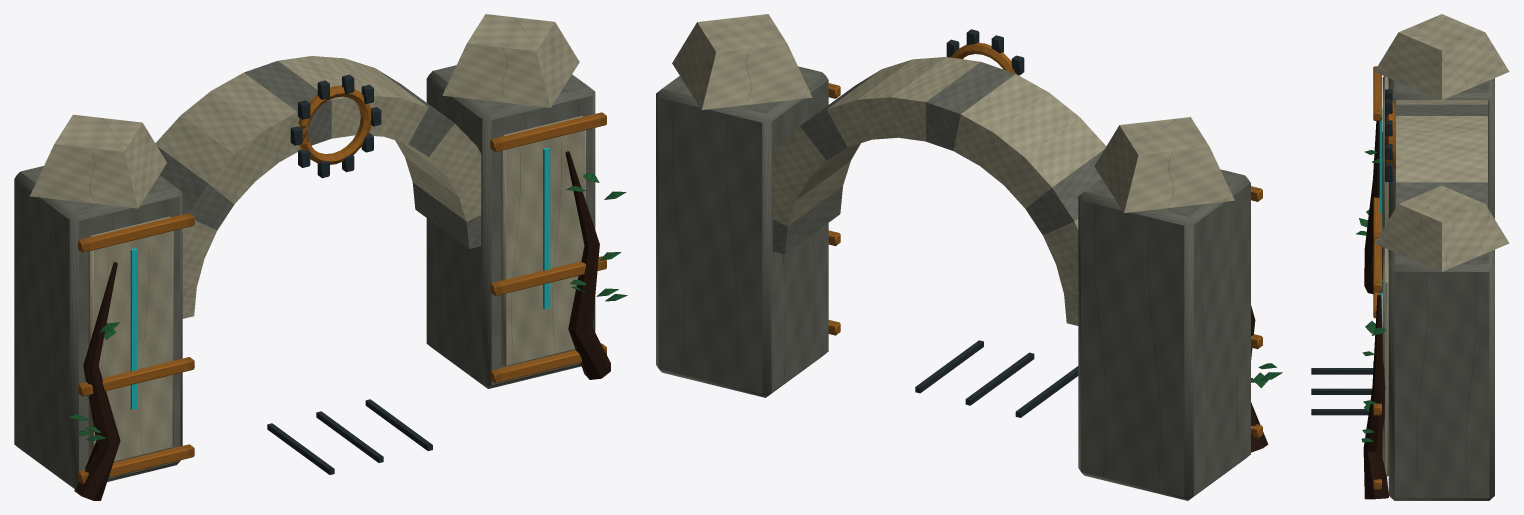
The model's file is Entrada_estacao_invadida_LOD0.fbx.
The picture shows the model from 3 angles, left to right: view 1: azimuth 30°, elevation 25°; view 2: azimuth 150°, elevation 25°; view 3: azimuth 270°, elevation 25°; orthographic projection. The views are drawn at different scales.
Visible parts, largest first — view 1: Entrada_estacao_invadida_LOD0; view 2: Entrada_estacao_invadida_LOD0; view 3: Entrada_estacao_invadida_LOD0.
Boxes of the visible parts, x1=… form: Entrada_estacao_invadida_LOD0: x1=14, y1=14, x2=627, y2=500; Entrada_estacao_invadida_LOD0: x1=656, y1=14, x2=1282, y2=500; Entrada_estacao_invadida_LOD0: x1=1311, y1=14, x2=1509, y2=500.
Bounding box in the file's own units: 1127 × 687 × 410.
1 material, 1 textured.
